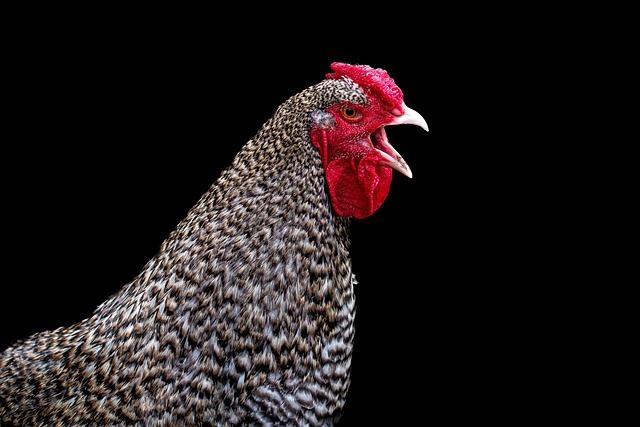Non_Gorille: (0, 25, 515, 427)
